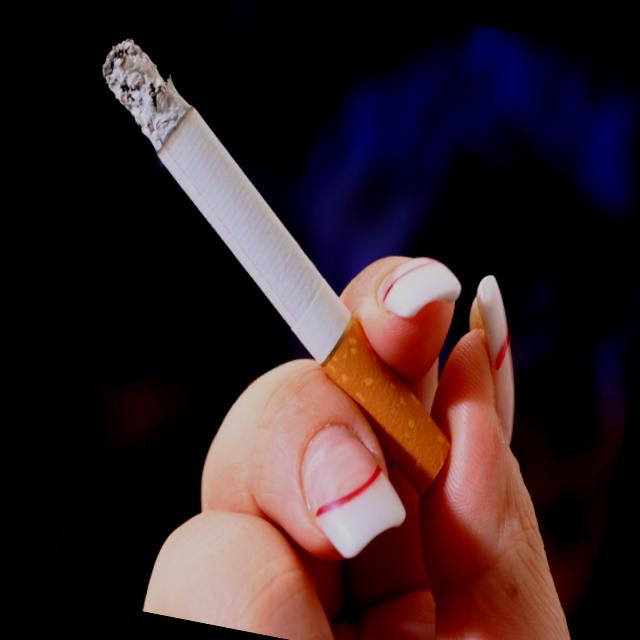smoke: (29, 28, 526, 502)
